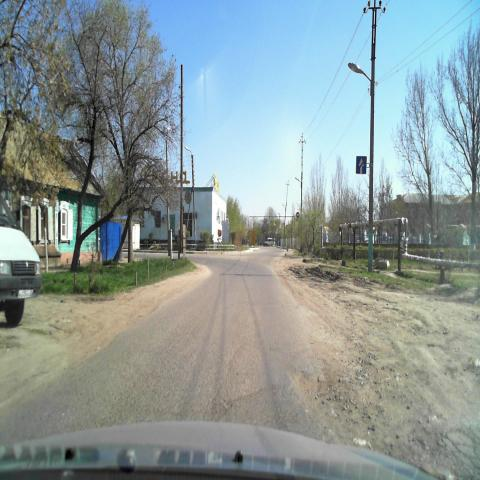5_6: (355, 155, 367, 174)
